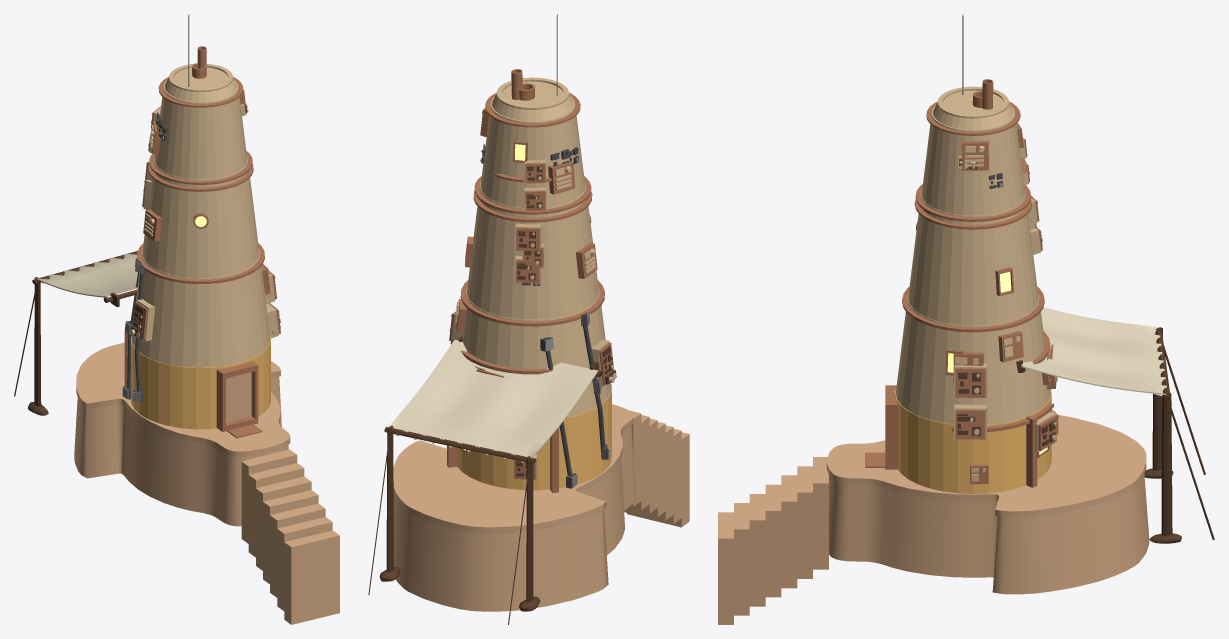
The model's file is nomad_building_b11.fbx.
3 renders of one model, left to right at view 1: azimuth 30°, elevation 25°; view 2: azimuth 150°, elevation 25°; view 3: azimuth 270°, elevation 25°, orthographic. The views are drawn at different scales.
Visible parts, largest first — view 1: NomadBuilding_B11; view 2: NomadBuilding_B11; view 3: NomadBuilding_B11.
Part boxes in pixels (x1,y1,x2,y2): NomadBuilding_B11: [14, 14, 339, 624]; NomadBuilding_B11: [368, 14, 689, 624]; NomadBuilding_B11: [718, 14, 1214, 624].
Bounding box in the file's own units: 1282 × 3488 × 2669.
